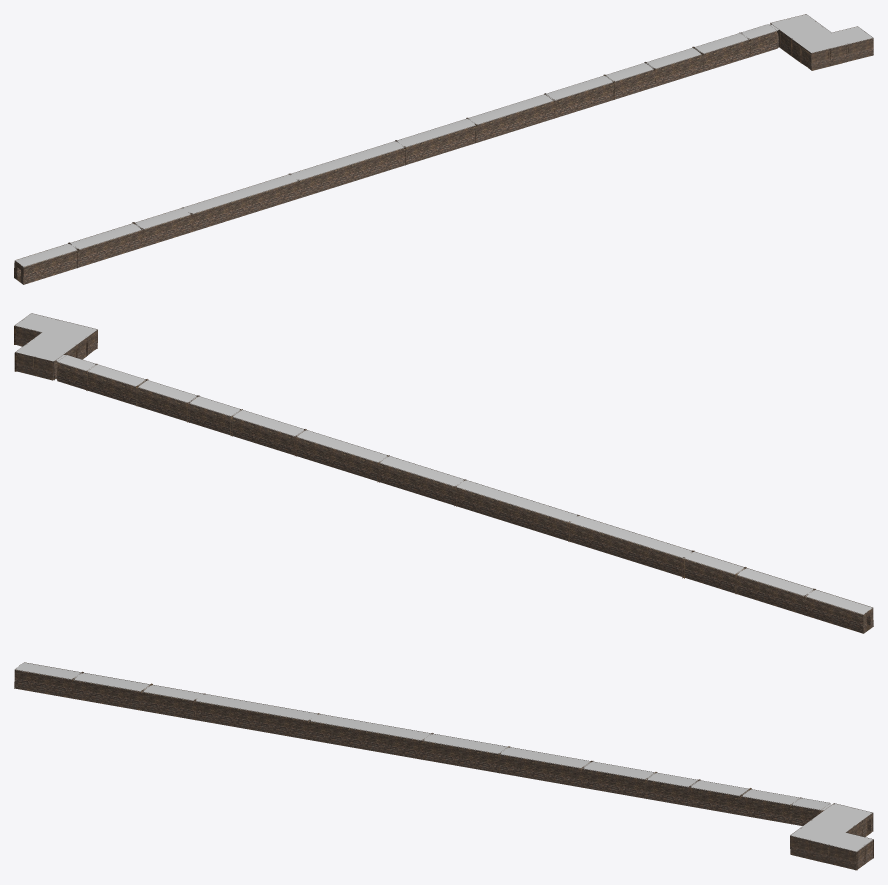
Rendered from cellarWalls.fbx.
The picture shows the model from 3 angles, top to bottom: view 1: azimuth 30°, elevation 25°; view 2: azimuth 150°, elevation 25°; view 3: azimuth 330°, elevation 25°; orthographic projection. The views are drawn at different scales.
Visible parts, largest first — view 1: polySurface1892, polySurface1897; view 2: polySurface1892, polySurface1897, polySurface1926; view 3: polySurface1892, polySurface1897, polySurface1926.
Part boxes in pixels (x1,y1,x2,y2): polySurface1892: (14,14,873,284); polySurface1897: (15,14,873,267); polySurface1892: (14,313,873,633); polySurface1897: (14,313,872,614); polySurface1926: (14,320,815,599); polySurface1892: (14,662,873,870); polySurface1897: (14,662,873,851); polySurface1926: (71,671,873,870).
Size of the model in its own units: 14644 by 1200 by 1291.
